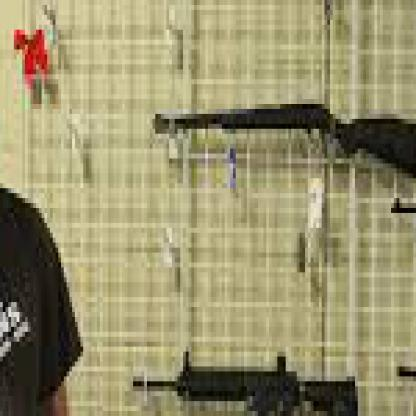gun: (0, 0, 47, 411)
